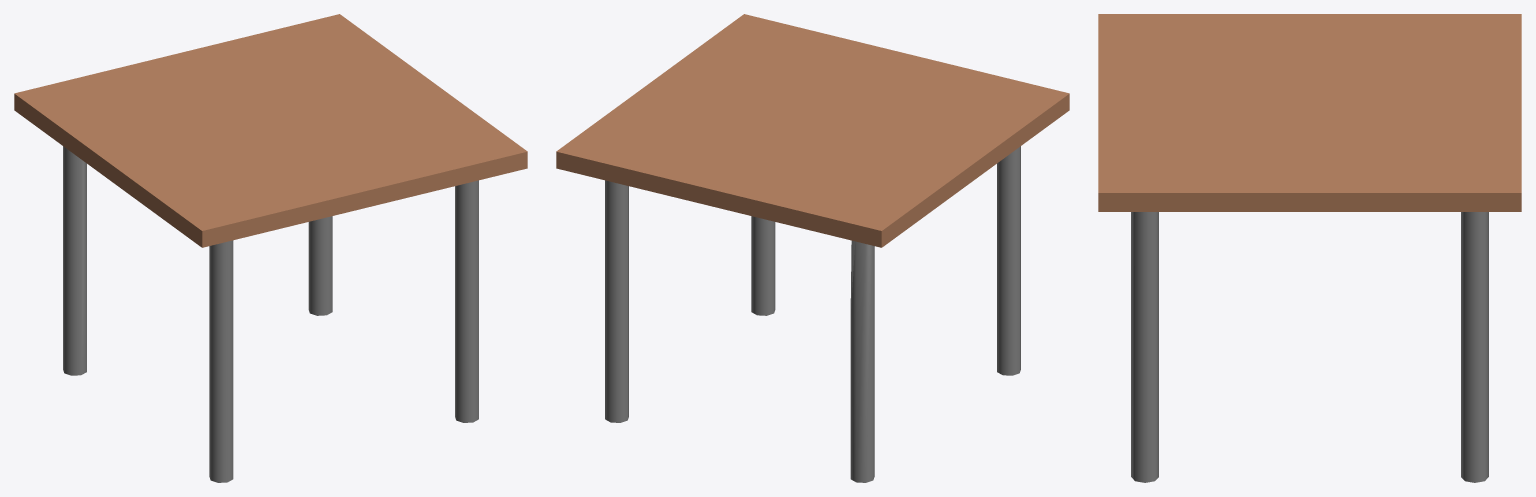
File: Table.fbx
3 views of the same model, side by side, from view 1: azimuth 30°, elevation 25°; view 2: azimuth 150°, elevation 25°; view 3: azimuth 270°, elevation 25° (orthographic). The views are drawn at different scales.
Parts seen in each view (by area): view 1: Table; view 2: Table; view 3: Table.
Part boxes in pixels (x1,y1,x2,y2): Table: (14,14,527,482); Table: (556,14,1069,482); Table: (1098,14,1521,482).
Size of the model in its own units: 293 by 234 by 293.
